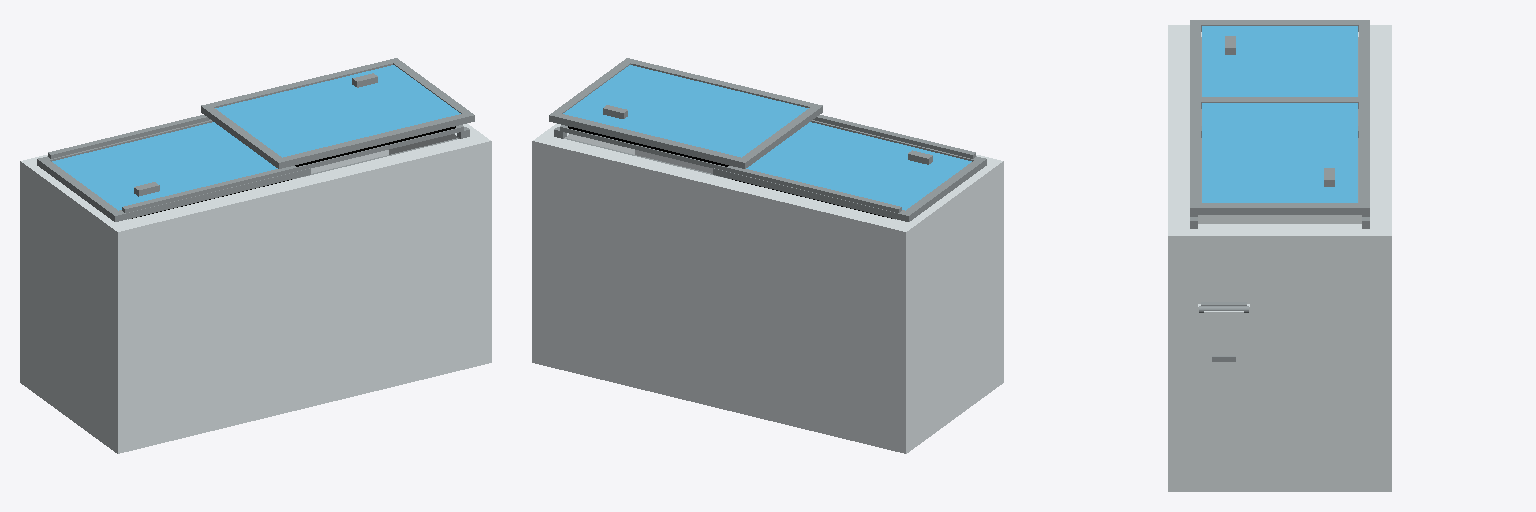
robot.urdf — convenience_chest_freezer:
<robot name="convenience_chest_freezer">
  <link name="cabinet">
    <visual name="front_wall">
      <origin xyz="0 -0.3325 0.43" rpy="0 0 0" />
      <geometry>
        <box size="1.6 0.055 0.86" />
        </geometry>
      <material name="slightly_glossy_white_insulation">
        <color rgba="0.92 0.95 0.96 1" />
        </material>
      </visual>
    <visual name="rear_wall">
      <origin xyz="0 0.3325 0.43" rpy="0 0 0" />
      <geometry>
        <box size="1.6 0.055 0.86" />
        </geometry>
      <material name="slightly_glossy_white_insulation">
        <color rgba="0.92 0.95 0.96 1" />
        </material>
      </visual>
    <visual name="end_wall_0">
      <origin xyz="-0.7725 0 0.43" rpy="0 0 0" />
      <geometry>
        <box size="0.055 0.72 0.86" />
        </geometry>
      <material name="slightly_glossy_white_insulation">
        <color rgba="0.92 0.95 0.96 1" />
        </material>
      </visual>
    <visual name="side_wall">
      <origin xyz="0.7725 0 0.43" rpy="0 0 0" />
      <geometry>
        <box size="0.055 0.72 0.86" />
        </geometry>
      <material name="slightly_glossy_white_insulation">
        <color rgba="0.92 0.95 0.96 1" />
        </material>
      </visual>
    <visual name="insulated_floor">
      <origin xyz="0 0 0.035" rpy="0 0 0" />
      <geometry>
        <box size="1.6 0.72 0.07" />
        </geometry>
      <material name="slightly_glossy_white_insulation">
        <color rgba="0.92 0.95 0.96 1" />
        </material>
      </visual>
    <visual name="dark_inner_floor">
      <origin xyz="0 0 0.088" rpy="0 0 0" />
      <geometry>
        <box size="1.49 0.61 0.018" />
        </geometry>
      <material name="dark_recessed_liner">
        <color rgba="0.06 0.075 0.085 1" />
        </material>
      </visual>
    <visual name="front_top_rim">
      <origin xyz="0 -0.3225 0.88" rpy="0 0 0" />
      <geometry>
        <box size="1.6 0.075 0.055" />
        </geometry>
      <material name="slightly_glossy_white_insulation">
        <color rgba="0.92 0.95 0.96 1" />
        </material>
      </visual>
    <visual name="rear_top_rim">
      <origin xyz="0 0.3225 0.88" rpy="0 0 0" />
      <geometry>
        <box size="1.6 0.075 0.055" />
        </geometry>
      <material name="slightly_glossy_white_insulation">
        <color rgba="0.92 0.95 0.96 1" />
        </material>
      </visual>
    <visual name="end_top_rim_0">
      <origin xyz="-0.755 0 0.88" rpy="0 0 0" />
      <geometry>
        <box size="0.09 0.72 0.055" />
        </geometry>
      <material name="slightly_glossy_white_insulation">
        <color rgba="0.92 0.95 0.96 1" />
        </material>
      </visual>
    <visual name="end_top_rim_1">
      <origin xyz="0.755 0 0.88" rpy="0 0 0" />
      <geometry>
        <box size="0.09 0.72 0.055" />
        </geometry>
      <material name="slightly_glossy_white_insulation">
        <color rgba="0.92 0.95 0.96 1" />
        </material>
      </visual>
    <visual name="front_gasket">
      <origin xyz="0 -0.285 0.884" rpy="0 0 0" />
      <geometry>
        <box size="1.44 0.02 0.018" />
        </geometry>
      <material name="black_rubber_gasket">
        <color rgba="0.01 0.012 0.012 1" />
        </material>
      </visual>
    <visual name="rear_gasket">
      <origin xyz="0 0.285 0.884" rpy="0 0 0" />
      <geometry>
        <box size="1.44 0.02 0.018" />
        </geometry>
      <material name="black_rubber_gasket">
        <color rgba="0.01 0.012 0.012 1" />
        </material>
      </visual>
    <visual name="lower_track_front">
      <origin xyz="0 -0.275 0.891" rpy="0 0 0" />
      <geometry>
        <box size="1.45 0.026 0.018" />
        </geometry>
      <material name="brushed_aluminum">
        <color rgba="0.65 0.68 0.69 1" />
        </material>
      </visual>
    <visual name="lower_track_rear">
      <origin xyz="0 0.275 0.891" rpy="0 0 0" />
      <geometry>
        <box size="1.45 0.026 0.018" />
        </geometry>
      <material name="brushed_aluminum">
        <color rgba="0.65 0.68 0.69 1" />
        </material>
      </visual>
    <visual name="upper_track_front">
      <origin xyz="0 -0.275 0.945" rpy="0 0 0" />
      <geometry>
        <box size="1.45 0.026 0.018" />
        </geometry>
      <material name="brushed_aluminum">
        <color rgba="0.65 0.68 0.69 1" />
        </material>
      </visual>
    <visual name="upper_track_rear">
      <origin xyz="0 0.275 0.945" rpy="0 0 0" />
      <geometry>
        <box size="1.45 0.026 0.018" />
        </geometry>
      <material name="brushed_aluminum">
        <color rgba="0.65 0.68 0.69 1" />
        </material>
      </visual>
    <visual name="upper_track_front_post">
      <origin xyz="0.73 -0.275 0.922" rpy="0 0 0" />
      <geometry>
        <box size="0.04 0.026 0.03" />
        </geometry>
      <material name="brushed_aluminum">
        <color rgba="0.65 0.68 0.69 1" />
        </material>
      </visual>
    <visual name="upper_track_rear_post">
      <origin xyz="0.73 0.275 0.922" rpy="0 0 0" />
      <geometry>
        <box size="0.04 0.026 0.03" />
        </geometry>
      <material name="brushed_aluminum">
        <color rgba="0.65 0.68 0.69 1" />
        </material>
      </visual>
    <visual name="side_lock_boss">
      <origin xyz="0.81 -0.18 0.555" rpy="0 0 0" />
      <geometry>
        <box size="0.02 0.17 0.22" />
        </geometry>
      <material name="slightly_glossy_white_insulation">
        <color rgba="0.92 0.95 0.96 1" />
        </material>
      </visual>
    <visual name="hinge_leaf">
      <origin xyz="0.81 -0.18 0.66" rpy="0 0 0" />
      <geometry>
        <box size="0.02 0.15 0.022" />
        </geometry>
      <material name="brushed_aluminum">
        <color rgba="0.65 0.68 0.69 1" />
        </material>
      </visual>
    <visual name="key_cylinder">
      <origin xyz="0.824 -0.18 0.55" rpy="0 1.5708 0" />
      <geometry>
        <cylinder radius="0.026" length="0.008" />
        </geometry>
      <material name="brushed_brass_lock">
        <color rgba="0.86 0.65 0.22 1" />
        </material>
      </visual>
    <visual name="key_slot">
      <origin xyz="0.829 -0.18 0.55" rpy="0 0 0" />
      <geometry>
        <box size="0.003 0.007 0.026" />
        </geometry>
      <material name="dark_recessed_liner">
        <color rgba="0.06 0.075 0.085 1" />
        </material>
      </visual>
    <collision name="front_wall">
      <origin xyz="0 -0.3325 0.43" rpy="0 0 0" />
      <geometry>
        <box size="1.6 0.055 0.86" />
        </geometry>
      </collision>
    <collision name="rear_wall">
      <origin xyz="0 0.3325 0.43" rpy="0 0 0" />
      <geometry>
        <box size="1.6 0.055 0.86" />
        </geometry>
      </collision>
    <collision name="end_wall_0">
      <origin xyz="-0.7725 0 0.43" rpy="0 0 0" />
      <geometry>
        <box size="0.055 0.72 0.86" />
        </geometry>
      </collision>
    <collision name="side_wall">
      <origin xyz="0.7725 0 0.43" rpy="0 0 0" />
      <geometry>
        <box size="0.055 0.72 0.86" />
        </geometry>
      </collision>
    <collision name="insulated_floor">
      <origin xyz="0 0 0.035" rpy="0 0 0" />
      <geometry>
        <box size="1.6 0.72 0.07" />
        </geometry>
      </collision>
    <collision name="dark_inner_floor">
      <origin xyz="0 0 0.088" rpy="0 0 0" />
      <geometry>
        <box size="1.49 0.61 0.018" />
        </geometry>
      </collision>
    <collision name="front_top_rim">
      <origin xyz="0 -0.3225 0.88" rpy="0 0 0" />
      <geometry>
        <box size="1.6 0.075 0.055" />
        </geometry>
      </collision>
    <collision name="rear_top_rim">
      <origin xyz="0 0.3225 0.88" rpy="0 0 0" />
      <geometry>
        <box size="1.6 0.075 0.055" />
        </geometry>
      </collision>
    <collision name="end_top_rim_0">
      <origin xyz="-0.755 0 0.88" rpy="0 0 0" />
      <geometry>
        <box size="0.09 0.72 0.055" />
        </geometry>
      </collision>
    <collision name="end_top_rim_1">
      <origin xyz="0.755 0 0.88" rpy="0 0 0" />
      <geometry>
        <box size="0.09 0.72 0.055" />
        </geometry>
      </collision>
    <collision name="front_gasket">
      <origin xyz="0 -0.285 0.884" rpy="0 0 0" />
      <geometry>
        <box size="1.44 0.02 0.018" />
        </geometry>
      </collision>
    <collision name="rear_gasket">
      <origin xyz="0 0.285 0.884" rpy="0 0 0" />
      <geometry>
        <box size="1.44 0.02 0.018" />
        </geometry>
      </collision>
    <collision name="lower_track_front">
      <origin xyz="0 -0.275 0.891" rpy="0 0 0" />
      <geometry>
        <box size="1.45 0.026 0.018" />
        </geometry>
      </collision>
    <collision name="lower_track_rear">
      <origin xyz="0 0.275 0.891" rpy="0 0 0" />
      <geometry>
        <box size="1.45 0.026 0.018" />
        </geometry>
      </collision>
    <collision name="upper_track_front">
      <origin xyz="0 -0.275 0.945" rpy="0 0 0" />
      <geometry>
        <box size="1.45 0.026 0.018" />
        </geometry>
      </collision>
    <collision name="upper_track_rear">
      <origin xyz="0 0.275 0.945" rpy="0 0 0" />
      <geometry>
        <box size="1.45 0.026 0.018" />
        </geometry>
      </collision>
    <collision name="upper_track_front_post">
      <origin xyz="0.73 -0.275 0.922" rpy="0 0 0" />
      <geometry>
        <box size="0.04 0.026 0.03" />
        </geometry>
      </collision>
    <collision name="upper_track_rear_post">
      <origin xyz="0.73 0.275 0.922" rpy="0 0 0" />
      <geometry>
        <box size="0.04 0.026 0.03" />
        </geometry>
      </collision>
    <collision name="side_lock_boss">
      <origin xyz="0.81 -0.18 0.555" rpy="0 0 0" />
      <geometry>
        <box size="0.02 0.17 0.22" />
        </geometry>
      </collision>
    <collision name="hinge_leaf">
      <origin xyz="0.81 -0.18 0.66" rpy="0 0 0" />
      <geometry>
        <box size="0.02 0.15 0.022" />
        </geometry>
      </collision>
    <collision name="key_cylinder">
      <origin xyz="0.824 -0.18 0.55" rpy="0 1.5708 0" />
      <geometry>
        <cylinder radius="0.026" length="0.008" />
        </geometry>
      </collision>
    <collision name="key_slot">
      <origin xyz="0.829 -0.18 0.55" rpy="0 0 0" />
      <geometry>
        <box size="0.003 0.007 0.026" />
        </geometry>
      </collision>
    </link>
  <link name="lower_lid">
    <visual name="glass_pane">
      <origin xyz="0 0 0.003" rpy="0 0 0" />
      <geometry>
        <box size="0.78 0.5 0.012" />
        </geometry>
      <material name="pale_blue_safety_glass">
        <color rgba="0.45 0.8 0.96 0.38" />
        </material>
      </visual>
    <visual name="front_frame">
      <origin xyz="0 -0.2725 0" rpy="0 0 0" />
      <geometry>
        <box size="0.84 0.035 0.026" />
        </geometry>
      <material name="brushed_aluminum">
        <color rgba="0.65 0.68 0.69 1" />
        </material>
      </visual>
    <visual name="rear_frame">
      <origin xyz="0 0.2725 0" rpy="0 0 0" />
      <geometry>
        <box size="0.84 0.035 0.026" />
        </geometry>
      <material name="brushed_aluminum">
        <color rgba="0.65 0.68 0.69 1" />
        </material>
      </visual>
    <visual name="end_frame_0">
      <origin xyz="-0.4025 0 0" rpy="0 0 0" />
      <geometry>
        <box size="0.035 0.58 0.026" />
        </geometry>
      <material name="brushed_aluminum">
        <color rgba="0.65 0.68 0.69 1" />
        </material>
      </visual>
    <visual name="end_frame_1">
      <origin xyz="0.4025 0 0" rpy="0 0 0" />
      <geometry>
        <box size="0.035 0.58 0.026" />
        </geometry>
      <material name="brushed_aluminum">
        <color rgba="0.65 0.68 0.69 1" />
        </material>
      </visual>
    <visual name="front_shoe">
      <origin xyz="0 -0.275 -0.019" rpy="0 0 0" />
      <geometry>
        <box size="0.68 0.018 0.012" />
        </geometry>
      <material name="black_nylon_runner">
        <color rgba="0.02 0.02 0.018 1" />
        </material>
      </visual>
    <visual name="rear_shoe">
      <origin xyz="0 0.275 -0.019" rpy="0 0 0" />
      <geometry>
        <box size="0.68 0.018 0.012" />
        </geometry>
      <material name="black_nylon_runner">
        <color rgba="0.02 0.02 0.018 1" />
        </material>
      </visual>
    <visual name="pull_handle">
      <origin xyz="-0.21 -0.16 0.02" rpy="0 0 0" />
      <geometry>
        <box size="0.09 0.035 0.028" />
        </geometry>
      <material name="brushed_aluminum">
        <color rgba="0.65 0.68 0.69 1" />
        </material>
      </visual>
    <collision name="glass_pane">
      <origin xyz="0 0 0.003" rpy="0 0 0" />
      <geometry>
        <box size="0.78 0.5 0.012" />
        </geometry>
      </collision>
    <collision name="front_frame">
      <origin xyz="0 -0.2725 0" rpy="0 0 0" />
      <geometry>
        <box size="0.84 0.035 0.026" />
        </geometry>
      </collision>
    <collision name="rear_frame">
      <origin xyz="0 0.2725 0" rpy="0 0 0" />
      <geometry>
        <box size="0.84 0.035 0.026" />
        </geometry>
      </collision>
    <collision name="end_frame_0">
      <origin xyz="-0.4025 0 0" rpy="0 0 0" />
      <geometry>
        <box size="0.035 0.58 0.026" />
        </geometry>
      </collision>
    <collision name="end_frame_1">
      <origin xyz="0.4025 0 0" rpy="0 0 0" />
      <geometry>
        <box size="0.035 0.58 0.026" />
        </geometry>
      </collision>
    <collision name="front_shoe">
      <origin xyz="0 -0.275 -0.019" rpy="0 0 0" />
      <geometry>
        <box size="0.68 0.018 0.012" />
        </geometry>
      </collision>
    <collision name="rear_shoe">
      <origin xyz="0 0.275 -0.019" rpy="0 0 0" />
      <geometry>
        <box size="0.68 0.018 0.012" />
        </geometry>
      </collision>
    <collision name="pull_handle">
      <origin xyz="-0.21 -0.16 0.02" rpy="0 0 0" />
      <geometry>
        <box size="0.09 0.035 0.028" />
        </geometry>
      </collision>
    </link>
  <link name="upper_lid">
    <visual name="glass_pane">
      <origin xyz="0 0 0.003" rpy="0 0 0" />
      <geometry>
        <box size="0.78 0.5 0.012" />
        </geometry>
      <material name="pale_blue_safety_glass">
        <color rgba="0.45 0.8 0.96 0.38" />
        </material>
      </visual>
    <visual name="front_frame">
      <origin xyz="0 -0.2725 0" rpy="0 0 0" />
      <geometry>
        <box size="0.84 0.035 0.026" />
        </geometry>
      <material name="brushed_aluminum">
        <color rgba="0.65 0.68 0.69 1" />
        </material>
      </visual>
    <visual name="rear_frame">
      <origin xyz="0 0.2725 0" rpy="0 0 0" />
      <geometry>
        <box size="0.84 0.035 0.026" />
        </geometry>
      <material name="brushed_aluminum">
        <color rgba="0.65 0.68 0.69 1" />
        </material>
      </visual>
    <visual name="end_frame_0">
      <origin xyz="-0.4025 0 0" rpy="0 0 0" />
      <geometry>
        <box size="0.035 0.58 0.026" />
        </geometry>
      <material name="brushed_aluminum">
        <color rgba="0.65 0.68 0.69 1" />
        </material>
      </visual>
    <visual name="end_frame_1">
      <origin xyz="0.4025 0 0" rpy="0 0 0" />
      <geometry>
        <box size="0.035 0.58 0.026" />
        </geometry>
      <material name="brushed_aluminum">
        <color rgba="0.65 0.68 0.69 1" />
        </material>
      </visual>
    <visual name="front_shoe">
      <origin xyz="0 -0.275 -0.019" rpy="0 0 0" />
      <geometry>
        <box size="0.68 0.018 0.012" />
        </geometry>
      <material name="black_nylon_runner">
        <color rgba="0.02 0.02 0.018 1" />
        </material>
      </visual>
    <visual name="rear_shoe">
      <origin xyz="0 0.275 -0.019" rpy="0 0 0" />
      <geometry>
        <box size="0.68 0.018 0.012" />
        </geometry>
      <material name="black_nylon_runner">
        <color rgba="0.02 0.02 0.018 1" />
        </material>
      </visual>
    <visual name="pull_handle">
      <origin xyz="0.21 0.16 0.02" rpy="0 0 0" />
      <geometry>
        <box size="0.09 0.035 0.028" />
        </geometry>
      <material name="brushed_aluminum">
        <color rgba="0.65 0.68 0.69 1" />
        </material>
      </visual>
    <collision name="glass_pane">
      <origin xyz="0 0 0.003" rpy="0 0 0" />
      <geometry>
        <box size="0.78 0.5 0.012" />
        </geometry>
      </collision>
    <collision name="front_frame">
      <origin xyz="0 -0.2725 0" rpy="0 0 0" />
      <geometry>
        <box size="0.84 0.035 0.026" />
        </geometry>
      </collision>
    <collision name="rear_frame">
      <origin xyz="0 0.2725 0" rpy="0 0 0" />
      <geometry>
        <box size="0.84 0.035 0.026" />
        </geometry>
      </collision>
    <collision name="end_frame_0">
      <origin xyz="-0.4025 0 0" rpy="0 0 0" />
      <geometry>
        <box size="0.035 0.58 0.026" />
        </geometry>
      </collision>
    <collision name="end_frame_1">
      <origin xyz="0.4025 0 0" rpy="0 0 0" />
      <geometry>
        <box size="0.035 0.58 0.026" />
        </geometry>
      </collision>
    <collision name="front_shoe">
      <origin xyz="0 -0.275 -0.019" rpy="0 0 0" />
      <geometry>
        <box size="0.68 0.018 0.012" />
        </geometry>
      </collision>
    <collision name="rear_shoe">
      <origin xyz="0 0.275 -0.019" rpy="0 0 0" />
      <geometry>
        <box size="0.68 0.018 0.012" />
        </geometry>
      </collision>
    <collision name="pull_handle">
      <origin xyz="0.21 0.16 0.02" rpy="0 0 0" />
      <geometry>
        <box size="0.09 0.035 0.028" />
        </geometry>
      </collision>
    </link>
  <link name="lock_flap">
    <visual name="hinge_barrel">
      <origin xyz="0 0 0" rpy="-1.5708 0 0" />
      <geometry>
        <cylinder radius="0.012" length="0.16" />
        </geometry>
      <material name="brushed_aluminum">
        <color rgba="0.65 0.68 0.69 1" />
        </material>
      </visual>
    <visual name="flap_panel">
      <origin xyz="0.014 0 -0.085" rpy="0 0 0" />
      <geometry>
        <box size="0.014 0.13 0.17" />
        </geometry>
      <material name="slightly_glossy_white_insulation">
        <color rgba="0.92 0.95 0.96 1" />
        </material>
      </visual>
    <visual name="finger_lip">
      <origin xyz="0.025 0 -0.163" rpy="0 0 0" />
      <geometry>
        <box size="0.01 0.08 0.018" />
        </geometry>
      <material name="brushed_aluminum">
        <color rgba="0.65 0.68 0.69 1" />
        </material>
      </visual>
    <collision name="hinge_barrel">
      <origin xyz="0 0 0" rpy="-1.5708 0 0" />
      <geometry>
        <cylinder radius="0.012" length="0.16" />
        </geometry>
      </collision>
    <collision name="flap_panel">
      <origin xyz="0.014 0 -0.085" rpy="0 0 0" />
      <geometry>
        <box size="0.014 0.13 0.17" />
        </geometry>
      </collision>
    <collision name="finger_lip">
      <origin xyz="0.025 0 -0.163" rpy="0 0 0" />
      <geometry>
        <box size="0.01 0.08 0.018" />
        </geometry>
      </collision>
    </link>
  <joint name="cabinet_to_lower_lid" type="prismatic">
    <origin xyz="-0.35 0 0.925" rpy="0 0 0" />
    <parent link="cabinet" />
    <child link="lower_lid" />
    <axis xyz="1 0 0" />
    <limit effort="35" velocity="0.35" lower="0" upper="0.5" />
    </joint>
  <joint name="cabinet_to_upper_lid" type="prismatic">
    <origin xyz="0.35 0 0.979" rpy="0 0 0" />
    <parent link="cabinet" />
    <child link="upper_lid" />
    <axis xyz="-1 0 0" />
    <limit effort="35" velocity="0.35" lower="0" upper="0.5" />
    </joint>
  <joint name="cabinet_to_lock_flap" type="revolute">
    <origin xyz="0.832 -0.18 0.66" rpy="0 0 0" />
    <parent link="cabinet" />
    <child link="lock_flap" />
    <axis xyz="0 -1 0" />
    <limit effort="2" velocity="2.5" lower="0" upper="1.75" />
    </joint>
  </robot>

--- Facts derived from the render (not from the file) ---
The picture shows the robot from 3 angles, left to right: view 1: azimuth 30°, elevation 25°; view 2: azimuth 150°, elevation 25°; view 3: azimuth 270°, elevation 25°; orthographic projection.
Model convenience_chest_freezer with 4 links and 3 joints (1 revolute, 2 prismatic), rooted at cabinet, posed every joint at zero.
Links seen in each view (by area): view 1: cabinet, upper_lid, lower_lid; view 2: cabinet, upper_lid, lower_lid; view 3: cabinet, upper_lid, lower_lid, lock_flap.
Link boxes in pixels (x1=…): cabinet: x1=20, y1=115, x2=491, y2=453; upper_lid: x1=201, y1=58, x2=474, y2=168; lower_lid: x1=37, y1=120, x2=310, y2=221; cabinet: x1=532, y1=115, x2=1003, y2=453; upper_lid: x1=549, y1=58, x2=822, y2=168; lower_lid: x1=713, y1=120, x2=986, y2=221; cabinet: x1=1168, y1=22, x2=1391, y2=491; upper_lid: x1=1190, y1=97, x2=1369, y2=214; lower_lid: x1=1190, y1=20, x2=1369, y2=137; lock_flap: x1=1199, y1=306, x2=1248, y2=361.
Bounding box of the posed robot: 1.66 × 0.72 × 1.01 m (x, y, z).
Geometry: primitives only (box / cylinder / sphere), no mesh files.
